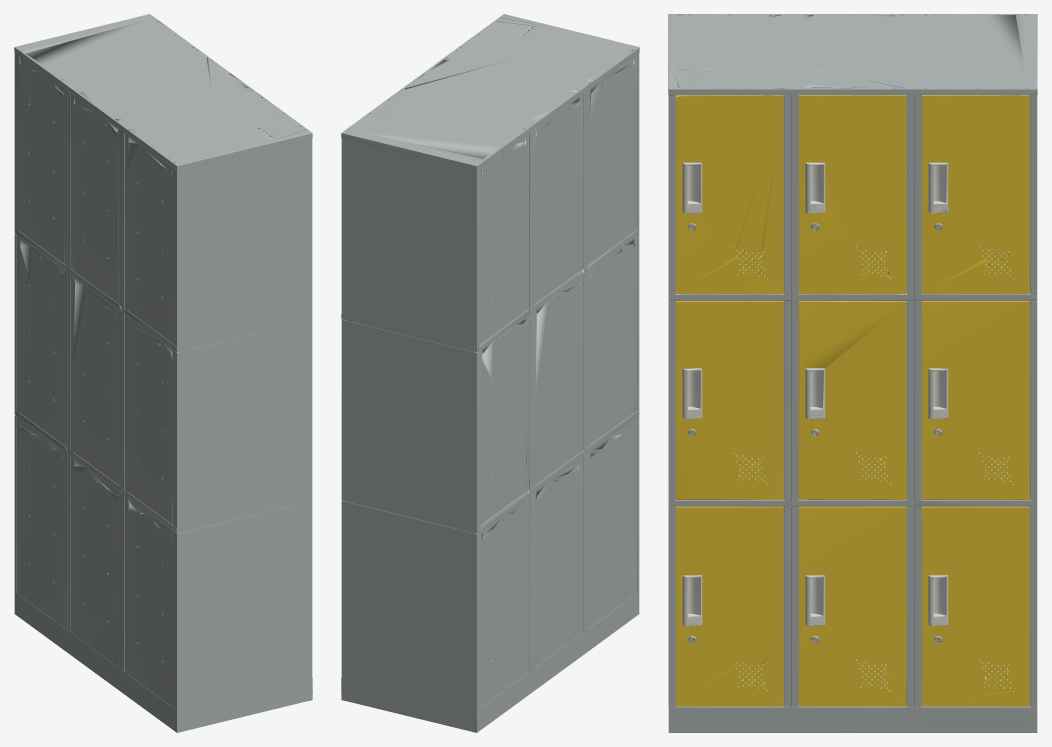
File: facilityFurniture_lockerUnit_multiDoor_a01.glb
3 views of the same model, side by side, from view 1: azimuth 30°, elevation 25°; view 2: azimuth 150°, elevation 25°; view 3: azimuth 270°, elevation 25° (orthographic). The views are drawn at different scales.
Size of the model in its own units: 0.5104 by 2 by 1.04.
